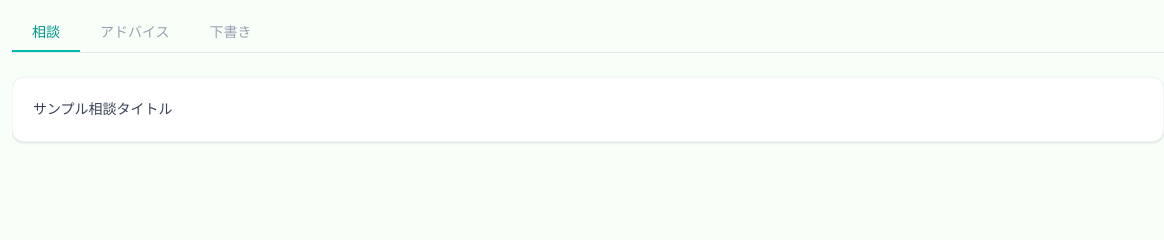
UserContentTabs 下書きタブ › 相談の下書き取得だけ失敗すると、通知を出しつつアドバイスの下書きは表示する
The width and height of the screenshot is (1164, 240).
Click the button "下書き": (231, 32) x1=190 y1=12 x2=272 y2=52
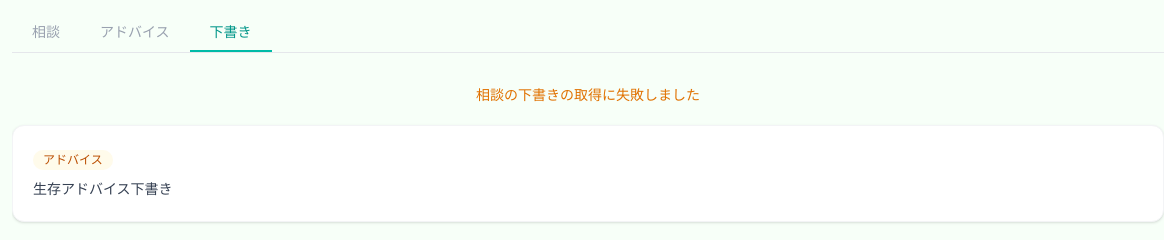
Check: the message reads "相談の下書きの取得に失敗しました", box x1=476 y1=85 x2=700 y2=104
Check: the text "生存アドバイス下書き" is shown, box x1=33 y1=179 x2=173 y2=198
